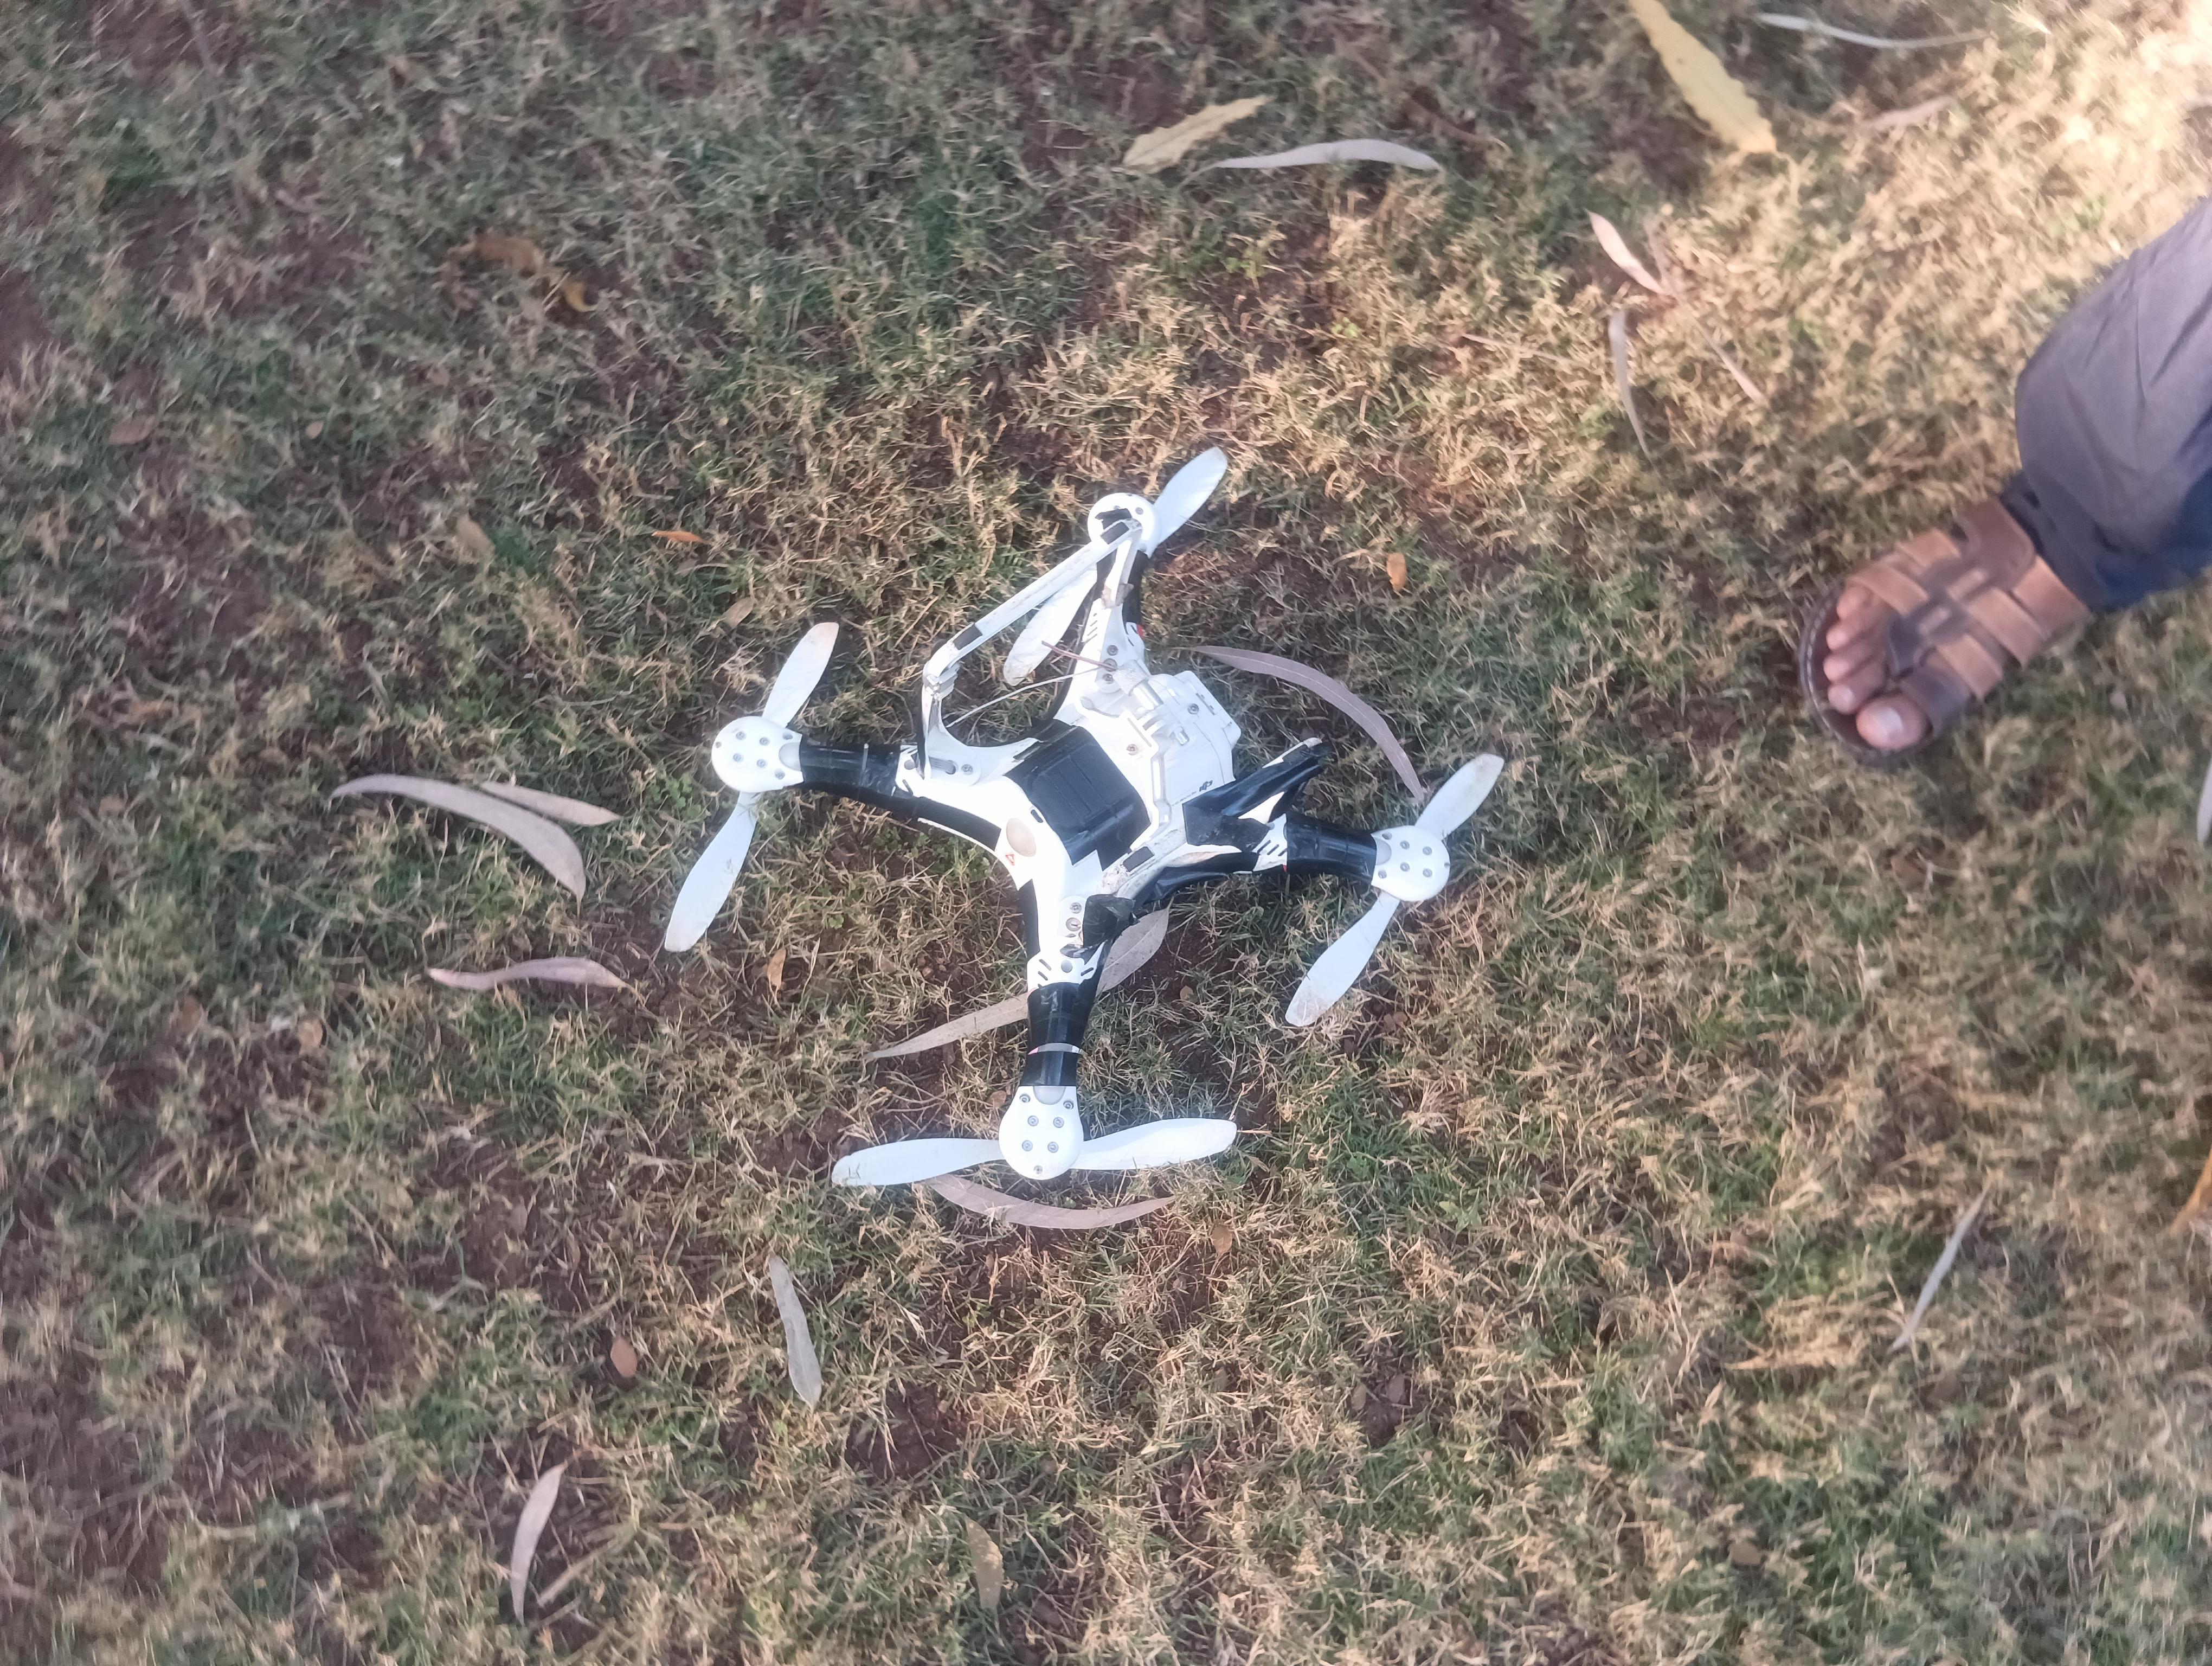drone: (435, 408, 1534, 1249)
